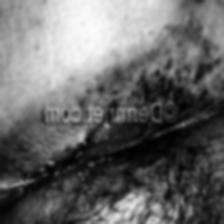Non-Cancerous Skin Condition: (55, 16, 224, 102)
